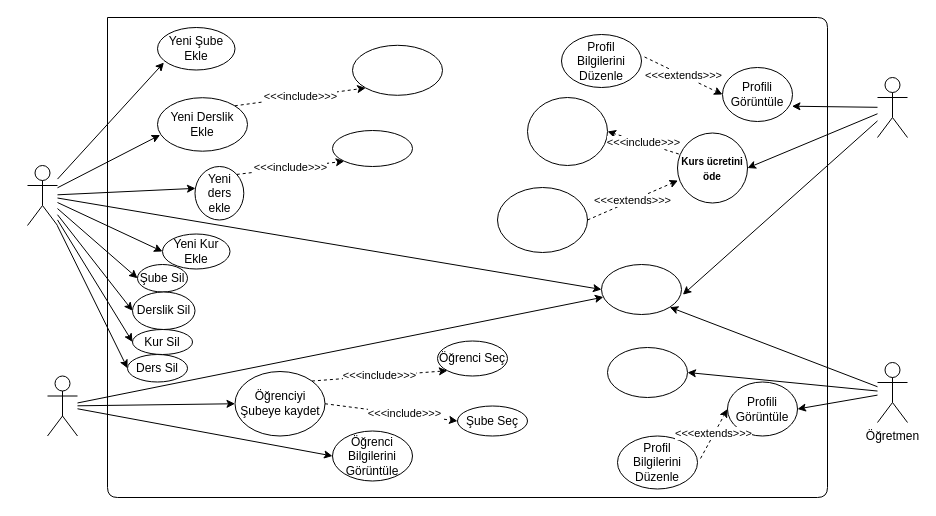
The diagram is 936 pixels wide and 516 high, and some of its shapes have lost their labels. The centre of each missing label's shape, as x and y in pixels:
"Ders Programını Görüntüle" belongs at (647,372).
"Dersin Dilini Seç" belongs at (372,148).
"Derslik Eklenecek Şubeyi Seç" belongs at (397,69).
"Kayıt Elemanı" belongs at (62,405).
"Sistem Yöneticisi" belongs at (42,195).
"Ödeme Seçeneğini belirle" belongs at (567,131).
"Ödenmemiş Taksitleri Görüntüle" belongs at (542,219).
"Öğrenci" belongs at (892,107).
"Şubeleri Görüntüle" belongs at (641,289).
